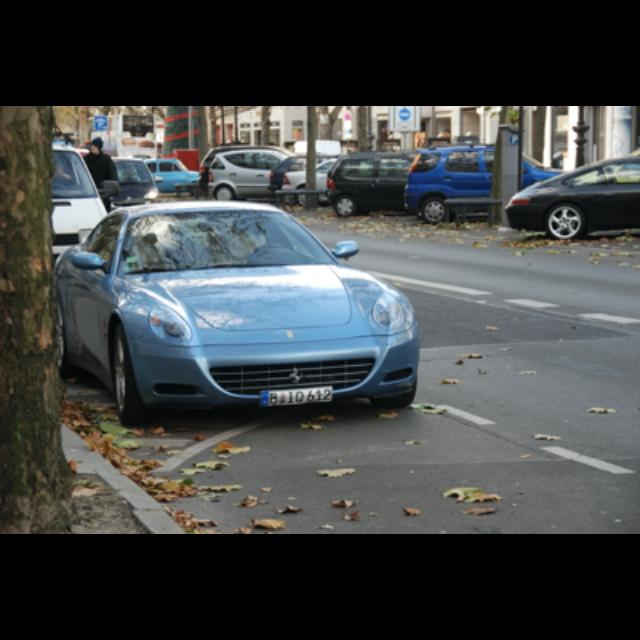carPlate: (261, 387, 333, 407)
